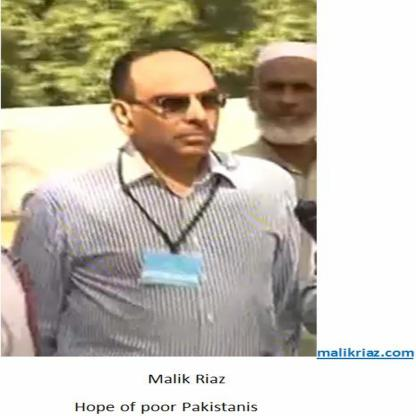face: (133, 53, 222, 156), (261, 62, 317, 136)
